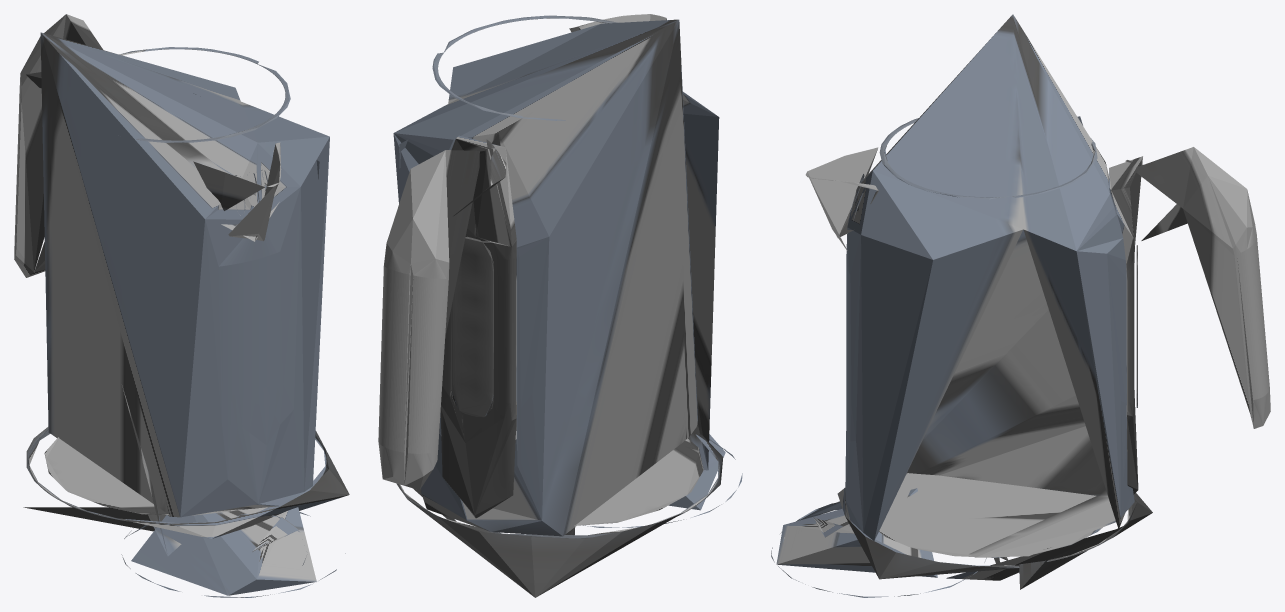
The model's file is kitchenware_kettle_y01.glb.
3 views of the same model, side by side, from view 1: azimuth 30°, elevation 25°; view 2: azimuth 150°, elevation 25°; view 3: azimuth 270°, elevation 25° (orthographic). The views are drawn at different scales.
Parts seen in each view (by area): view 1: geometry_0; view 2: geometry_0; view 3: geometry_0.
Boxes of the visible parts, x1,y1,x2,y2 form: geometry_0: [14, 14, 349, 597]; geometry_0: [378, 14, 742, 597]; geometry_0: [771, 14, 1270, 597].
Size of the model in its own units: 0.2204 by 0.42 by 0.3742.
1 material, 1 textured.
